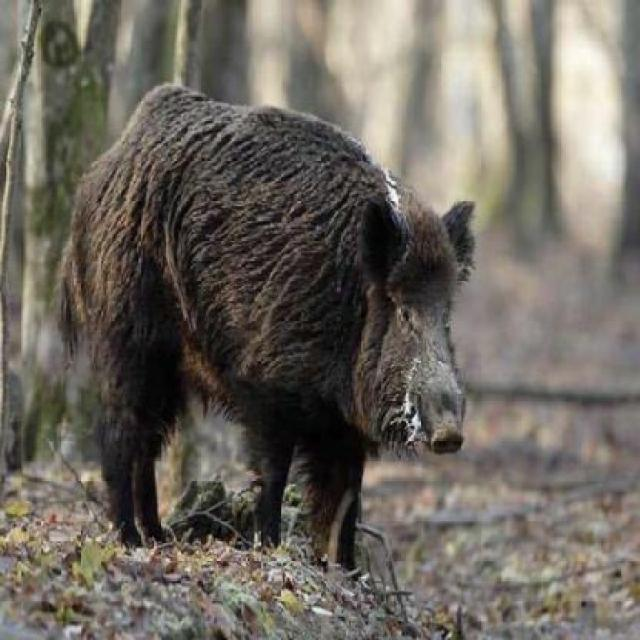Boar: (17, 54, 520, 561)
